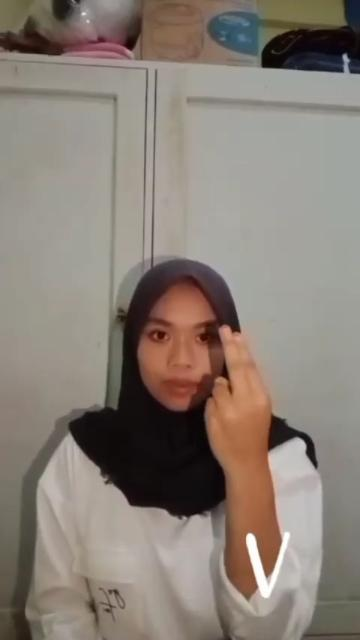U: (201, 317, 279, 465)
